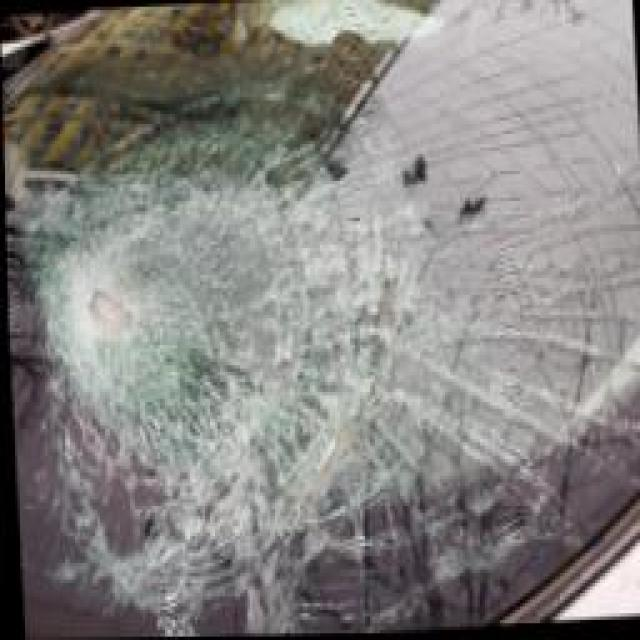Windshield: (2, 0, 640, 636)
